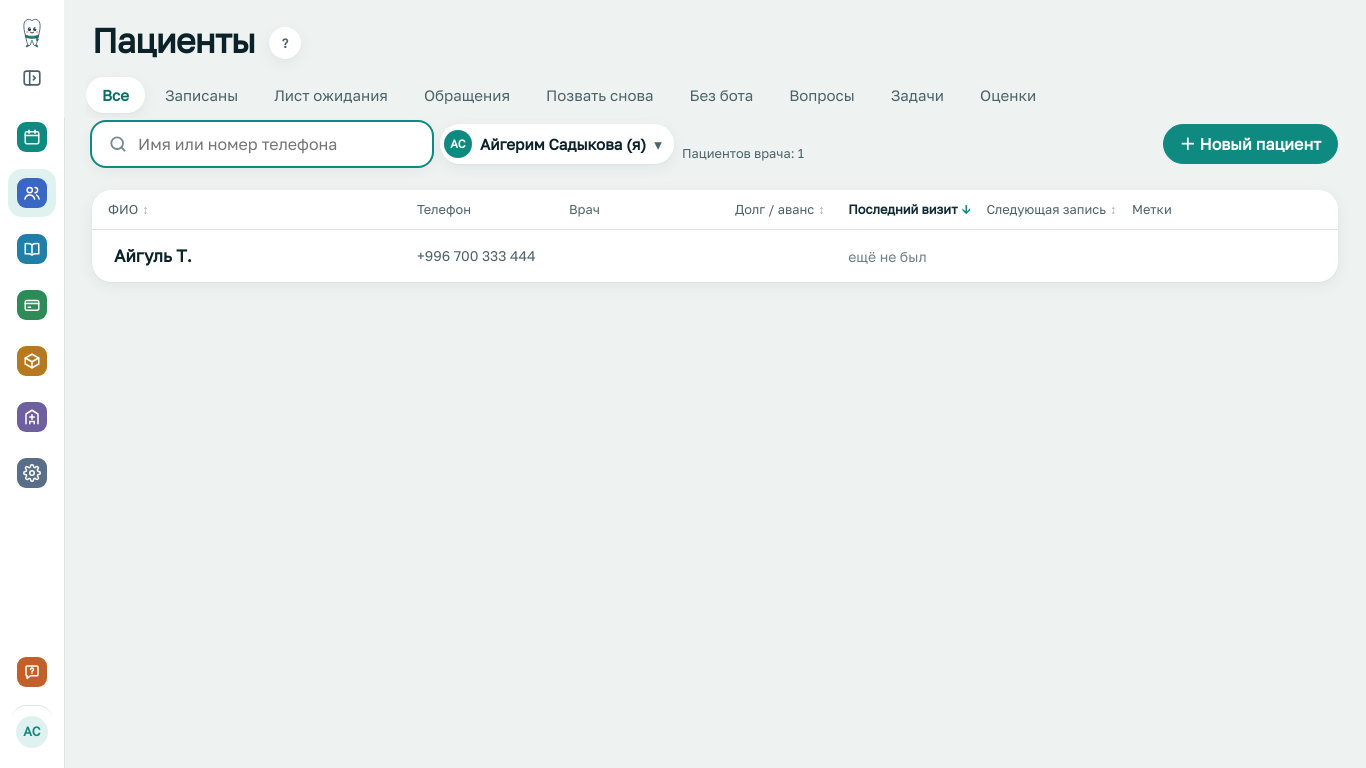
Test: аллергия — пилюлей в шапке (как в карточке приёма); «Медкарта» сразу открывает медкарту; «Предстоящие» и «Прошлые визиты»
Click the button "Айгуль Т.".
click(153, 256)  # box [114,243,192,269]
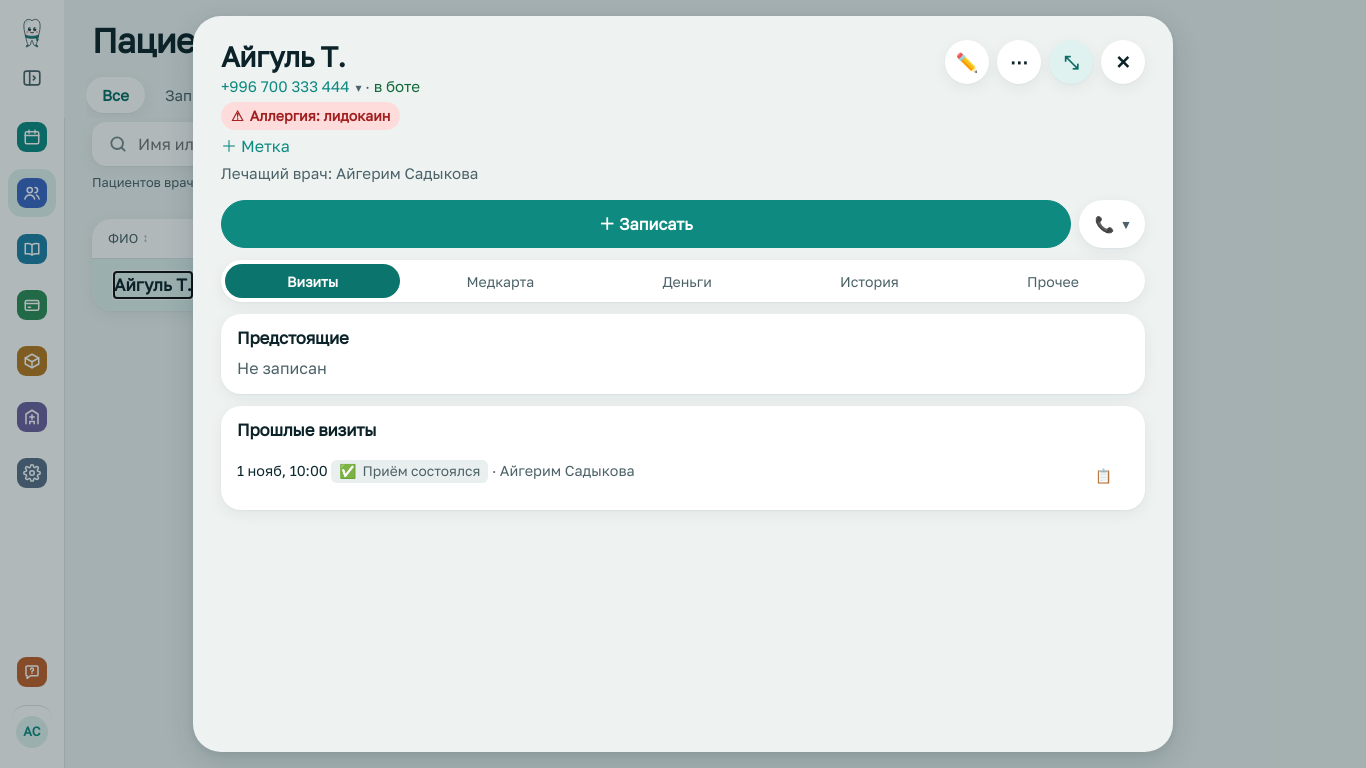
Now the header named "Важно перед лечением: Аллергия: лидокаин" is shown, box [221,38,1145,188]
Now the heading "Предстоящие" is shown, box [237,328,349,348]
Now the element named "Карточка пациента" shows "Не записан", box [237,358,327,378]
Click the tab "Медкарта".
click(500, 281)  # box [404,264,596,298]
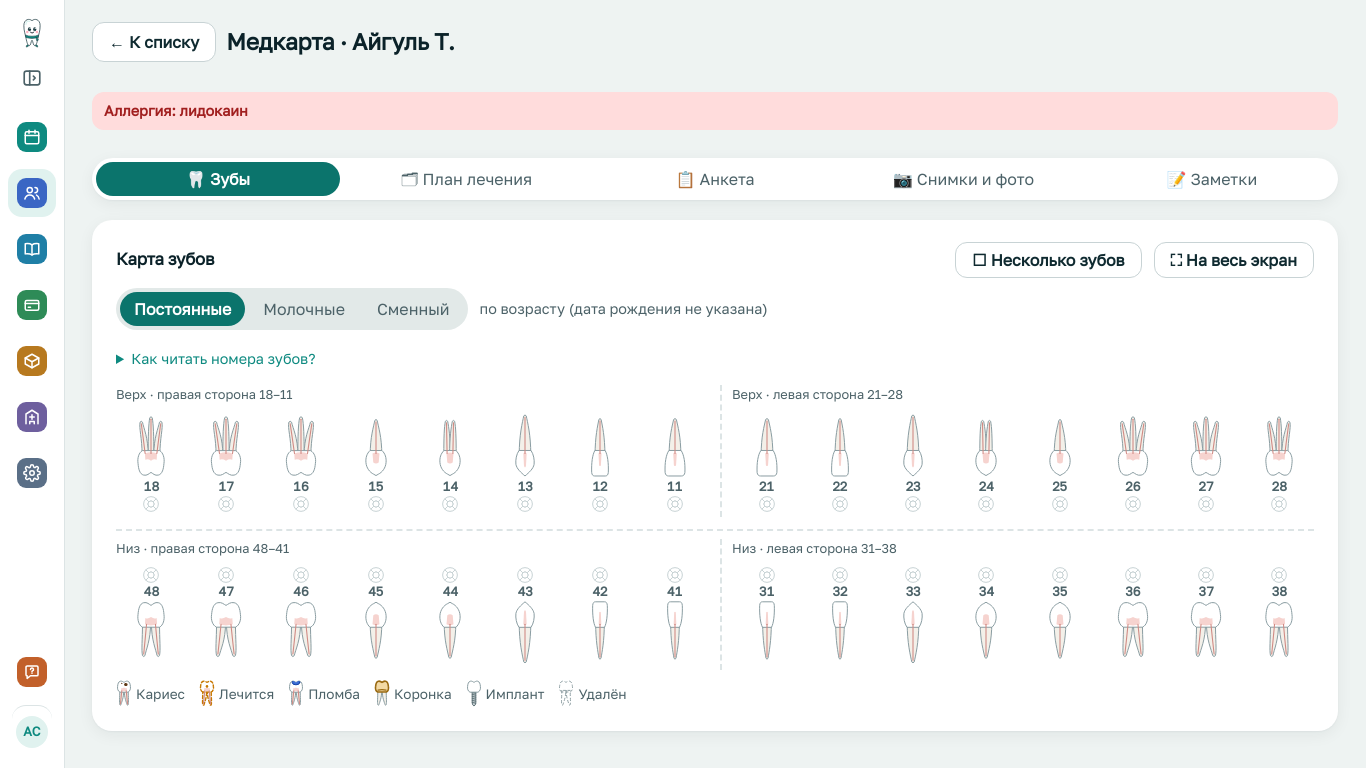
Now the heading "Карта зубов" is shown, box [116,247,214,272]
